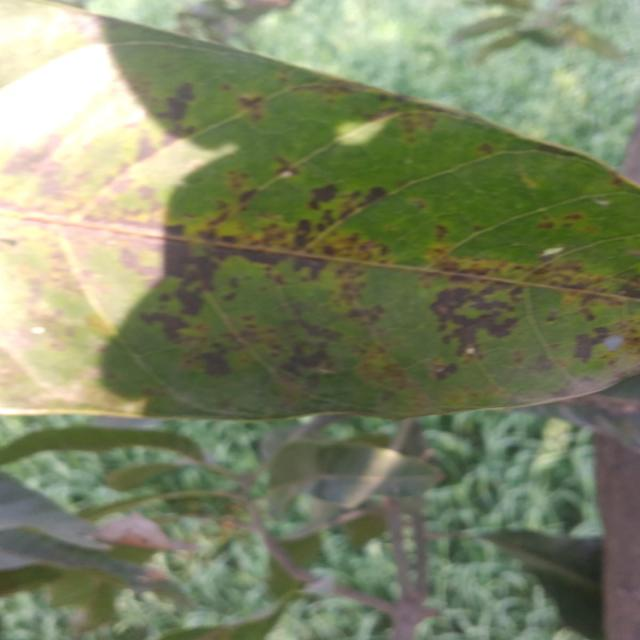Anthracnose: (420, 287, 528, 349), (277, 343, 345, 385), (319, 180, 397, 216), (196, 346, 254, 382), (167, 284, 222, 316), (228, 243, 295, 267)
